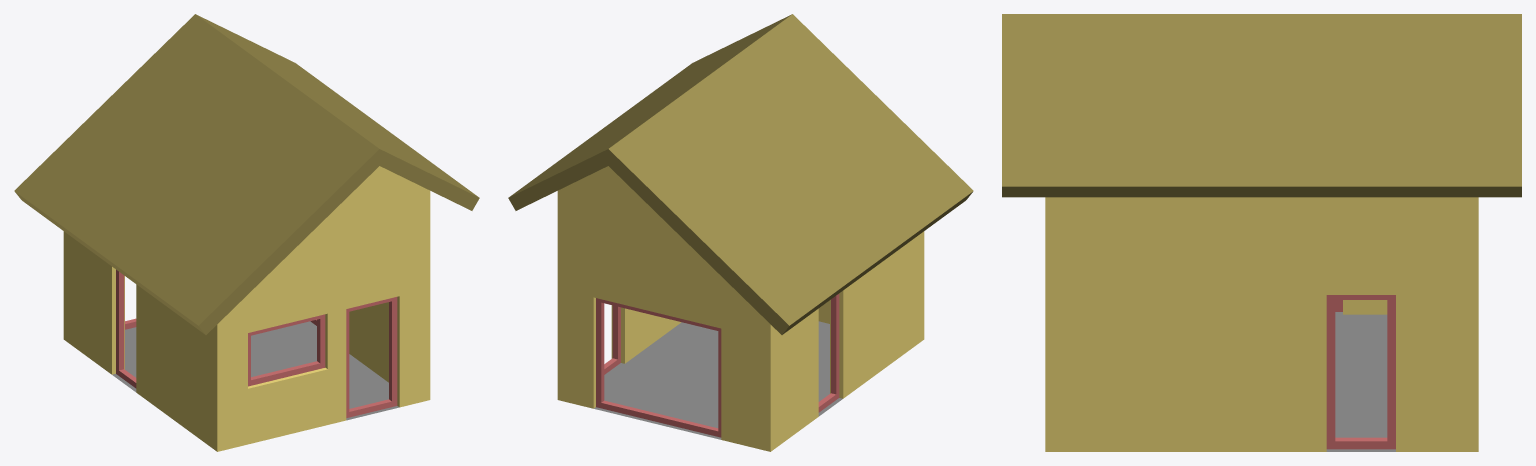
The model's file is result.glb.
The picture shows the model from 3 angles, left to right: view 1: azimuth 30°, elevation 25°; view 2: azimuth 150°, elevation 25°; view 3: azimuth 270°, elevation 25°; orthographic projection. The views are drawn at different scales.
Visible parts, largest first — view 1: 9b1d723f-3839-4e21-a75e-4cef7fffdda6__undefined (×2), 89ad0d2e-a15e-4e0e-a9d0-e088bd3c871b__undefined, 7cec97e2-333e-4b1f-8e11-a4302075983f__Plane_6, 20a8aeae-622f-49e6-b98d-5f96973bca7a__Box, 77a52c6b-d76e-4b0f-82d0-d1543ef35c29__Box_3, 143c9ef6-ce3f-40f1-9457-a3d5268803d5__Box_12; view 2: 9b1d723f-3839-4e21-a75e-4cef7fffdda6__undefined (×2), 89ad0d2e-a15e-4e0e-a9d0-e088bd3c871b__undefined, 7cec97e2-333e-4b1f-8e11-a4302075983f__Plane_6, 27a87e07-fec4-4b72-9d57-9029b0c890c5__Box_9, 143c9ef6-ce3f-40f1-9457-a3d5268803d5__Box_12, 2903b296-8281-4382-ac2e-7189813c26da__Box_15; view 3: 89ad0d2e-a15e-4e0e-a9d0-e088bd3c871b__undefined, 9b1d723f-3839-4e21-a75e-4cef7fffdda6__undefined, 7cec97e2-333e-4b1f-8e11-a4302075983f__Plane_6, 2903b296-8281-4382-ac2e-7189813c26da__Box_15.
Part boxes in pixels (x1,y1,x2,y2): 9b1d723f-3839-4e21-a75e-4cef7fffdda6__undefined (×2): (14,14,479,334); 89ad0d2e-a15e-4e0e-a9d0-e088bd3c871b__undefined: (63,166,430,451); 7cec97e2-333e-4b1f-8e11-a4302075983f__Plane_6: (112,321,399,420); 20a8aeae-622f-49e6-b98d-5f96973bca7a__Box: (346,297,397,417); 77a52c6b-d76e-4b0f-82d0-d1543ef35c29__Box_3: (248,314,325,386); 143c9ef6-ce3f-40f1-9457-a3d5268803d5__Box_12: (116,269,136,388); 9b1d723f-3839-4e21-a75e-4cef7fffdda6__undefined (×2): (508,14,973,334); 89ad0d2e-a15e-4e0e-a9d0-e088bd3c871b__undefined: (557,166,924,451); 7cec97e2-333e-4b1f-8e11-a4302075983f__Plane_6: (594,321,842,439); 27a87e07-fec4-4b72-9d57-9029b0c890c5__Box_9: (596,298,721,437); 143c9ef6-ce3f-40f1-9457-a3d5268803d5__Box_12: (818,293,839,412); 2903b296-8281-4382-ac2e-7189813c26da__Box_15: (604,305,620,374); 89ad0d2e-a15e-4e0e-a9d0-e088bd3c871b__undefined: (1045,197,1478,451); 9b1d723f-3839-4e21-a75e-4cef7fffdda6__undefined: (1002,14,1521,197); 7cec97e2-333e-4b1f-8e11-a4302075983f__Plane_6: (1326,312,1395,451); 2903b296-8281-4382-ac2e-7189813c26da__Box_15: (1326,295,1395,449).
Size of the model in its own units: 529 by 500 by 600.
